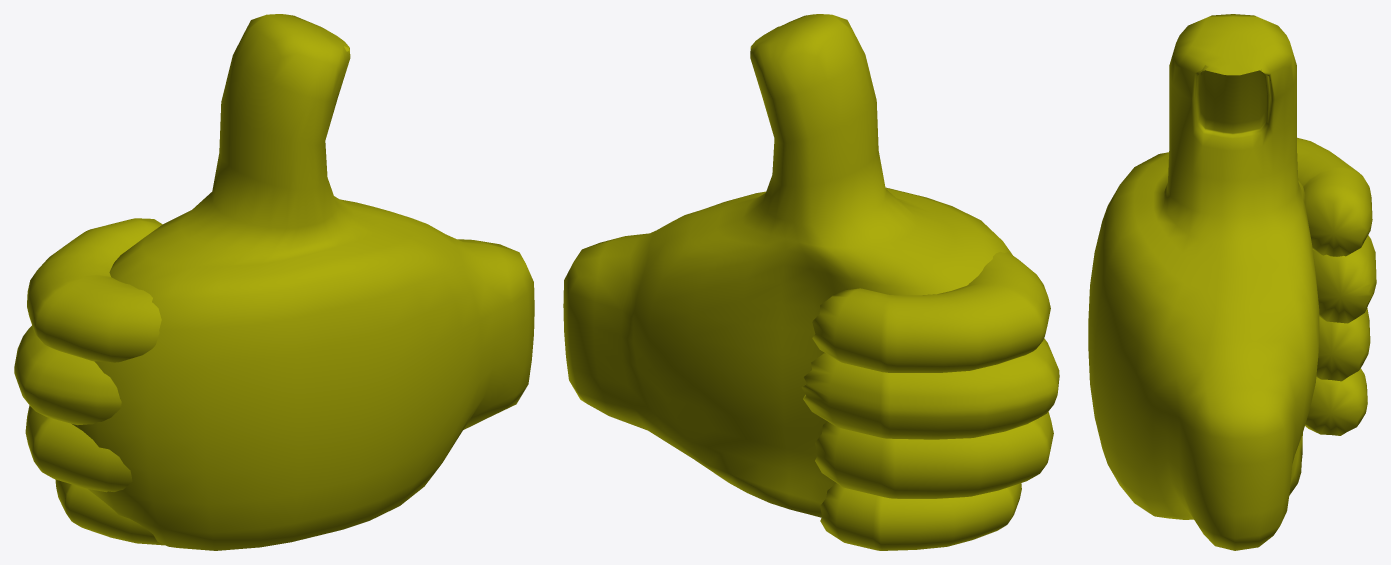
The model's file is Thumbs_Up.glb.
3 renders of one model, left to right at view 1: azimuth 30°, elevation 25°; view 2: azimuth 150°, elevation 25°; view 3: azimuth 270°, elevation 25°, orthographic. The views are drawn at different scales.
Parts seen in each view (by area): view 1: Thumbs_Up_Smooth; view 2: Thumbs_Up_Smooth; view 3: Thumbs_Up_Smooth.
Part boxes in pixels (x1,y1,x2,y2): Thumbs_Up_Smooth: (14,14,534,550); Thumbs_Up_Smooth: (563,14,1059,550); Thumbs_Up_Smooth: (1088,14,1376,550).
Size of the model in its own units: 0.00259 by 0.00235 by 0.00132.
